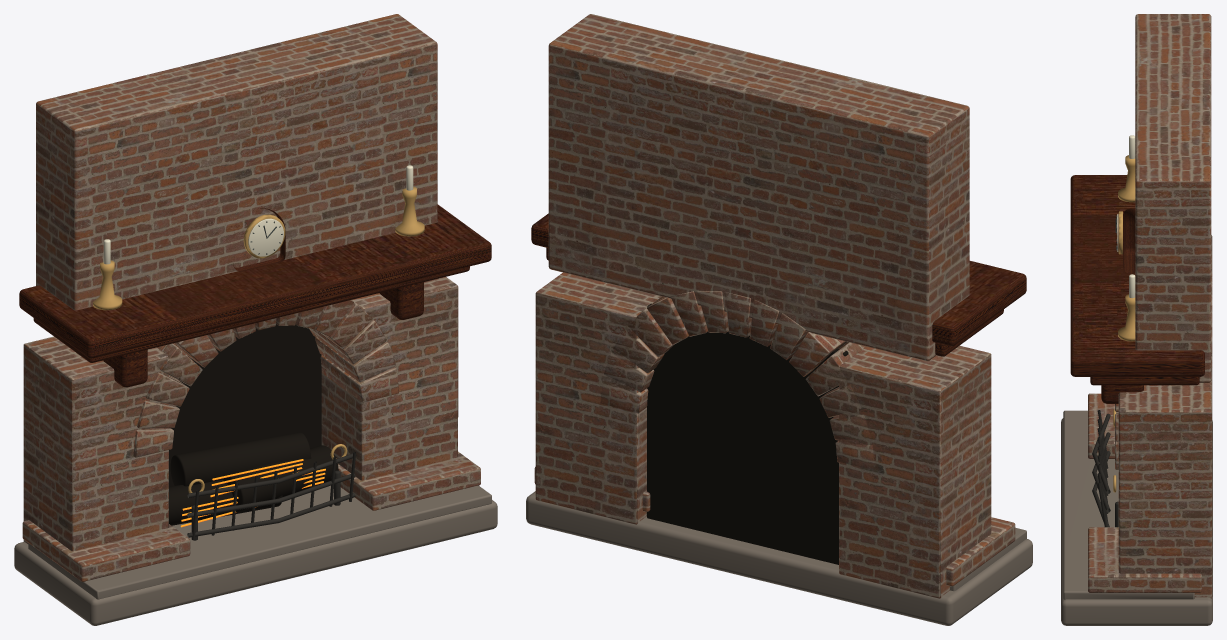
The model's file is hearth-fireplace.glb.
The picture shows the model from 3 angles, left to right: view 1: azimuth 30°, elevation 25°; view 2: azimuth 150°, elevation 25°; view 3: azimuth 270°, elevation 25°; orthographic projection. The views are drawn at different scales.
Parts seen in each view (by area): view 1: hearth-fireplace; view 2: hearth-fireplace; view 3: hearth-fireplace.
Part boxes in pixels (x1,y1,x2,y2): hearth-fireplace: (14, 14, 497, 625); hearth-fireplace: (526, 14, 1032, 625); hearth-fireplace: (1061, 14, 1212, 625).
Size of the model in its own units: 2.8 by 3.05 by 0.96.
9 materials, 2 textured.
